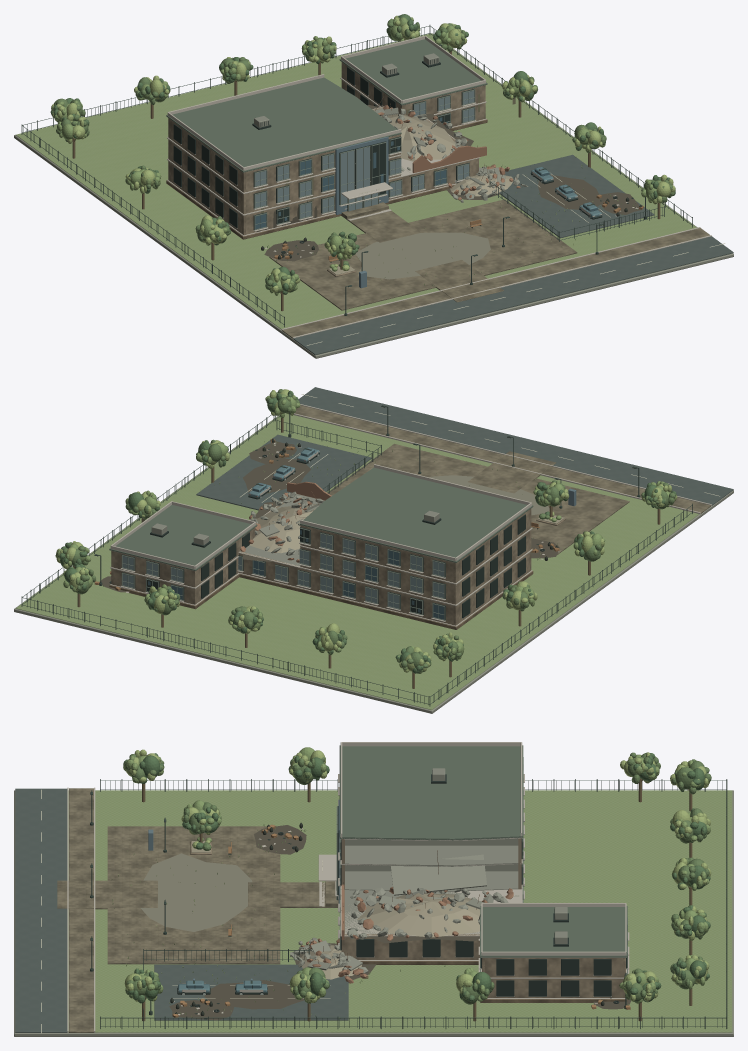
Rendered from police-abandoned.glb.
3 renders of one model, top to bottom at view 1: azimuth 30°, elevation 25°; view 2: azimuth 150°, elevation 25°; view 3: azimuth 270°, elevation 25°, orthographic. The views are drawn at different scales.
Parts seen in each view (by area): view 1: 材质批次_grass, 材质批次_plaza_paving, 材质批次_sage_metal_roof, 材质批次_asphalt, 材质批次_limestone, 材质批次_warm_cream_trim, 材质批次_poi_service_concrete, 材质批次_recess_shadow, 材质批次_street_metal, 材质批次_abandoned_dust, 材质批次_leaf_2, 材质批次_poi_window_lit (+11 smaller); view 2: 材质批次_grass, 材质批次_sage_metal_roof, 材质批次_asphalt, 材质批次_limestone, 材质批次_plaza_paving, 材质批次_warm_cream_trim, 材质批次_poi_service_concrete, 材质批次_street_metal, 材质批次_recess_shadow, 材质批次_leaf_1, 材质批次_leaf_2, 材质批次_poi_window_lit (+10 smaller); view 3: 材质批次_grass, 材质批次_plaza_paving, 材质批次_sage_metal_roof, 材质批次_asphalt, 材质批次_poi_service_concrete, 材质批次_warm_cream_trim, 材质批次_street_metal, 材质批次_abandoned_dust, 材质批次_limestone, 材质批次_recess_shadow, 材质批次_leaf_1, 材质批次_abandoned_soot_damp (+9 smaller).
Boxes of the visible parts, x1,y1,x2,y2 form: 材质批次_grass: (16, 33, 696, 329); 材质批次_plaza_paving: (269, 199, 709, 338); 材质批次_sage_metal_roof: (166, 39, 487, 172); 材质批次_asphalt: (293, 154, 733, 355); 材质批次_limestone: (168, 62, 485, 276); 材质批次_warm_cream_trim: (167, 35, 711, 338); 材质批次_poi_service_concrete: (14, 33, 733, 358); 材质批次_recess_shadow: (173, 61, 633, 254); 材质批次_street_metal: (21, 25, 692, 327); 材质批次_abandoned_dust: (356, 232, 490, 279); 材质批次_leaf_2: (51, 15, 675, 292); 材质批次_poi_window_lit: (255, 90, 474, 218); 材质批次_grass: (16, 413, 698, 709); 材质批次_sage_metal_roof: (109, 467, 533, 570); 材质批次_asphalt: (196, 387, 733, 510); 材质批次_limestone: (111, 494, 565, 625); 材质批次_plaza_paving: (295, 405, 710, 554); 材质批次_warm_cream_trim: (110, 404, 711, 626); 材质批次_poi_service_concrete: (14, 415, 733, 713); 材质批次_street_metal: (21, 405, 692, 706); 材质批次_recess_shadow: (121, 449, 538, 620); 材质批次_leaf_1: (56, 389, 675, 672); 材质批次_leaf_2: (55, 389, 677, 672); 材质批次_poi_window_lit: (122, 534, 444, 608); 材质批次_grass: (68, 790, 732, 1032); 材质批次_plaza_paving: (57, 788, 338, 1032); 材质批次_sage_metal_roof: (339, 745, 627, 957); 材质批次_asphalt: (15, 788, 348, 1032); 材质批次_poi_service_concrete: (14, 768, 733, 1036); 材质批次_warm_cream_trim: (67, 742, 629, 1032); 材质批次_street_metal: (90, 770, 727, 1028); 材质批次_abandoned_dust: (140, 853, 252, 931); 材质批次_limestone: (190, 838, 625, 997); 材质批次_recess_shadow: (177, 774, 626, 1019); 材质批次_leaf_1: (112, 752, 711, 1020); 材质批次_abandoned_soot_damp: (169, 825, 630, 1020).
Bounding box in the file's own units: 80.5 × 14.55 × 100.
33 materials, 5 textured.
